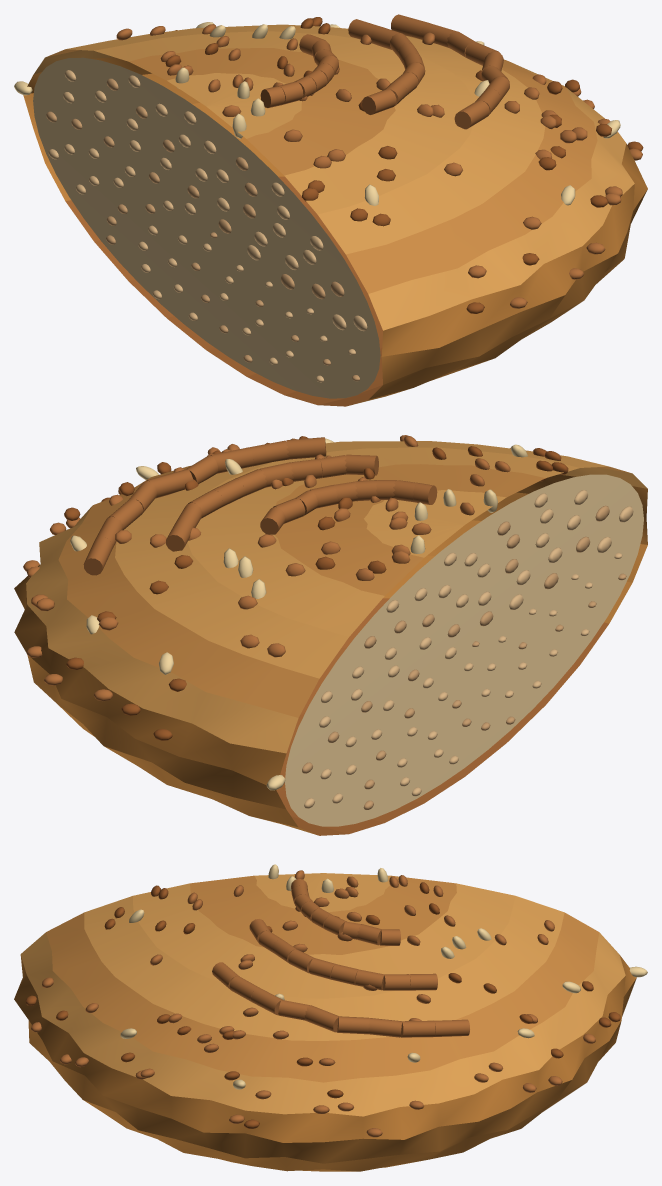
File: scetis-jumatate.glb
The picture shows the model from 3 angles, top to bottom: view 1: azimuth 30°, elevation 25°; view 2: azimuth 150°, elevation 25°; view 3: azimuth 270°, elevation 25°; orthographic projection. The views are drawn at different scales.
Visible parts, largest first — view 1: crust; view 2: crust; view 3: crust.
Boxes of the visible parts, box(x1,y1,x2,y2) form: crust: box(14, 14, 647, 406); crust: box(14, 435, 647, 835); crust: box(14, 864, 647, 1171).
Size of the model in its own units: 0.6225 by 0.3832 by 0.9911.
